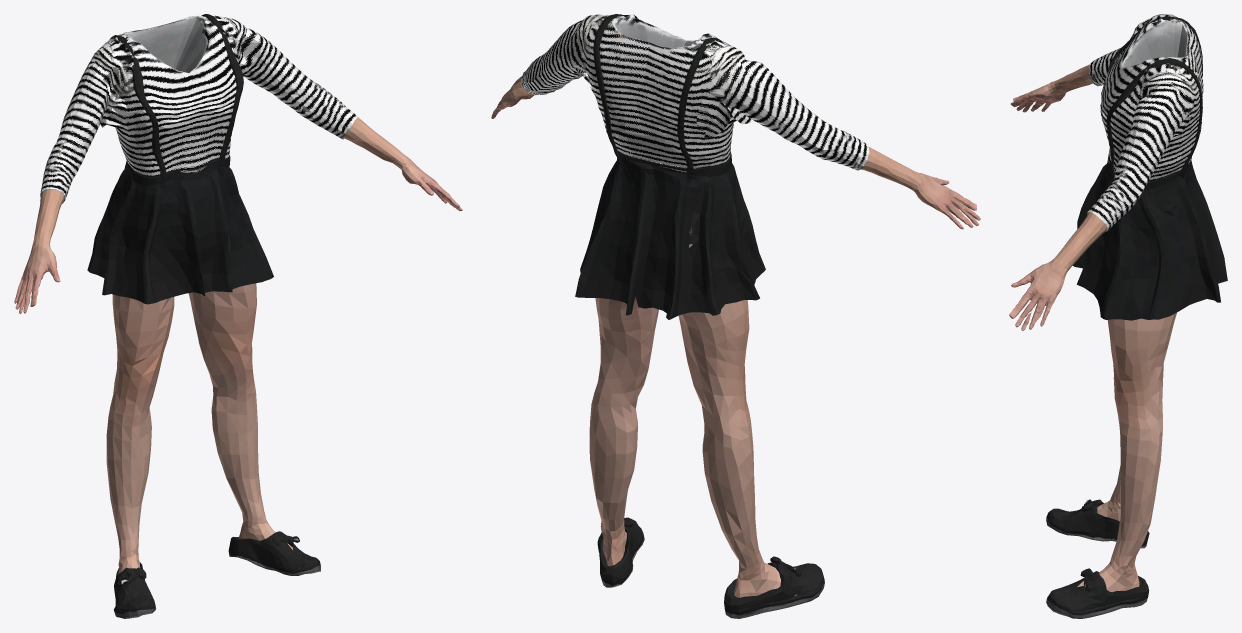
File: ewm_t2mime_outfit.glb
3 renders of one model, left to right at view 1: azimuth 30°, elevation 25°; view 2: azimuth 150°, elevation 25°; view 3: azimuth 270°, elevation 25°, orthographic. The views are drawn at different scales.
Parts seen in each view (by area): view 1: ewm_t2mime_outfit; view 2: ewm_t2mime_outfit; view 3: ewm_t2mime_outfit.
Part boxes in pixels (x1,y1,x2,y2): ewm_t2mime_outfit: (14, 14, 462, 618); ewm_t2mime_outfit: (491, 14, 980, 618); ewm_t2mime_outfit: (1009, 14, 1227, 618).
Size of the model in its own units: 1.37 by 1.59 by 0.588.
Materials: 1 (1 with a texture image).
